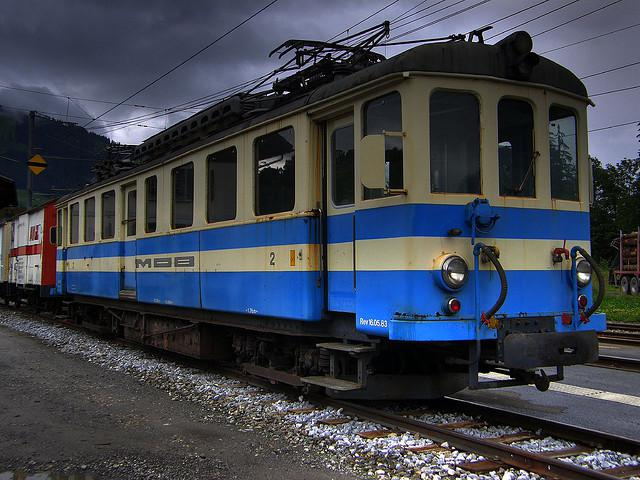Train: (3, 30, 608, 401)
